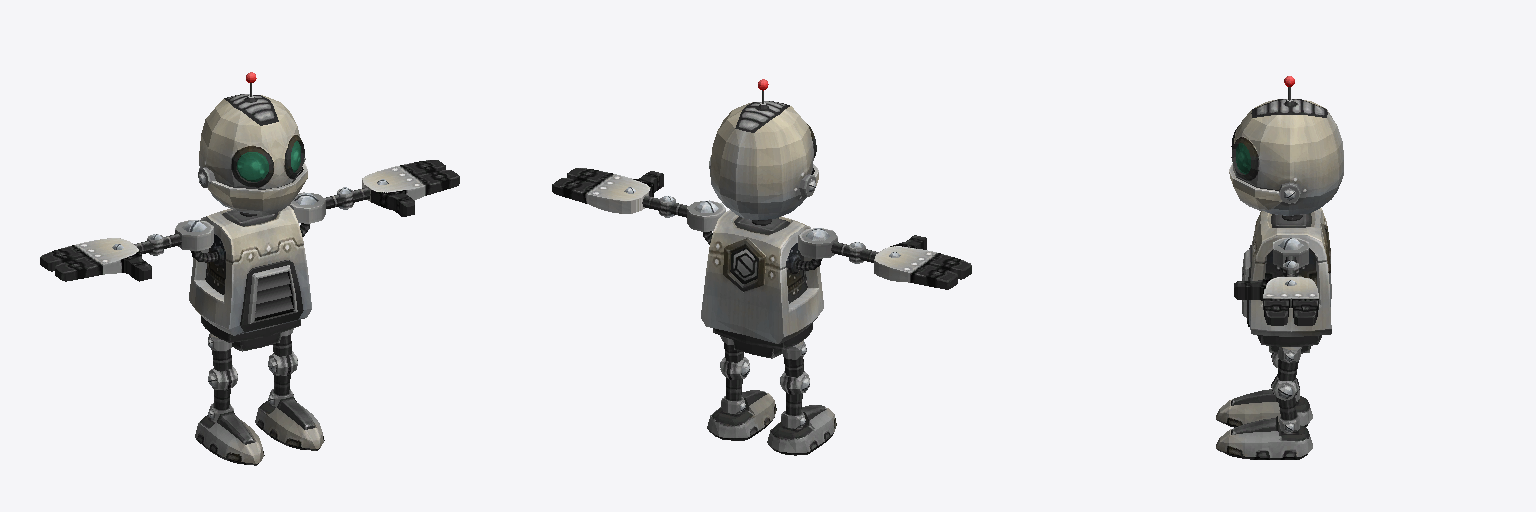
3 views of the same model, side by side, from view 1: azimuth 30°, elevation 25°; view 2: azimuth 150°, elevation 25°; view 3: azimuth 270°, elevation 25° (orthographic).
Visible parts, largest first — view 1: Mesh0; view 2: Mesh0; view 3: Mesh0.
Boxes of the visible parts, <box> form: Mesh0: <box>40,72,459,465</box>; Mesh0: <box>552,79,971,455</box>; Mesh0: <box>1216,76,1343,459</box>.
Size of the model in its own units: 18.98 by 16.37 by 5.31.
1 materials, 1 textured.